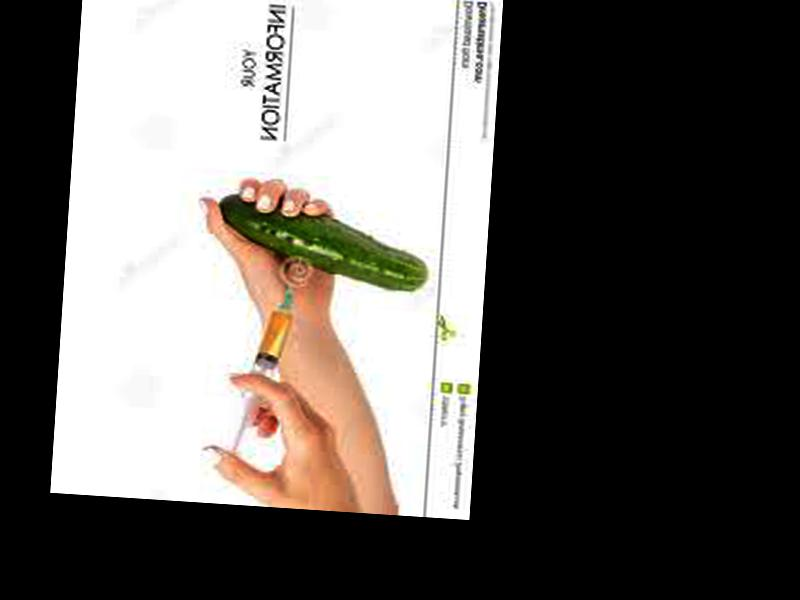Cucumber: (214, 194, 432, 292)
